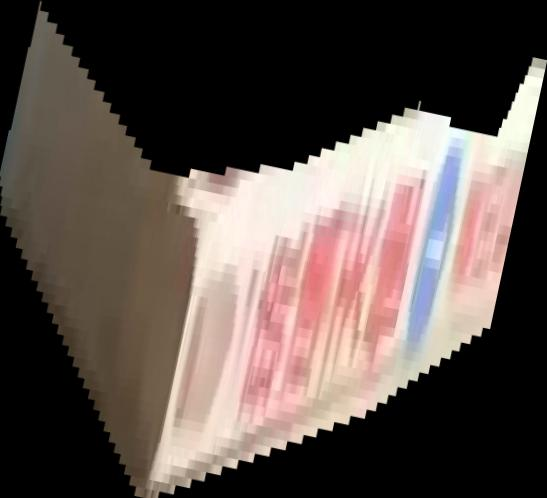flat: (1, 1, 547, 498)
